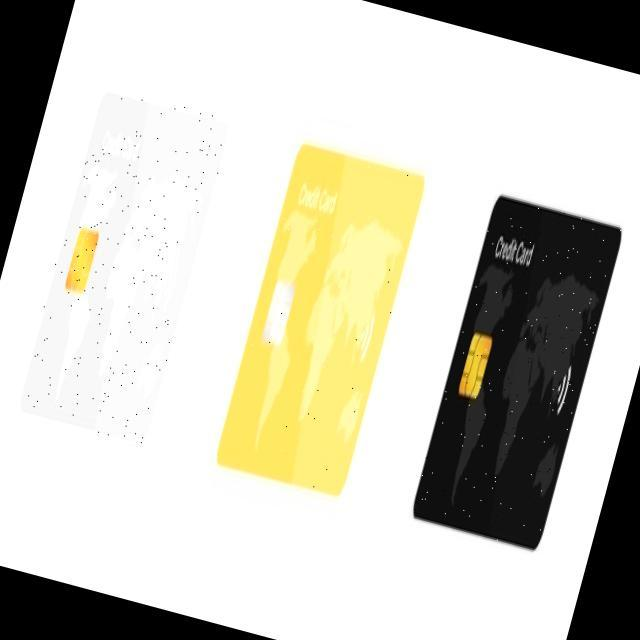payment_card: (412, 192, 622, 551), (215, 141, 425, 496)
